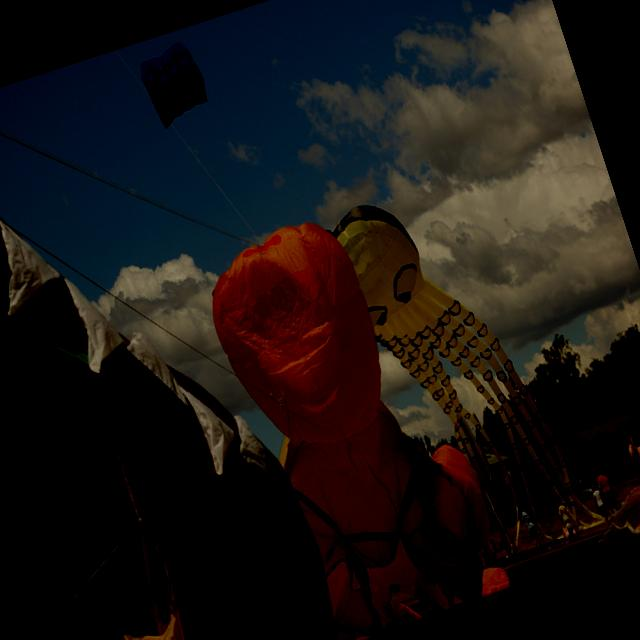Vehicle: (558, 474, 601, 505)
